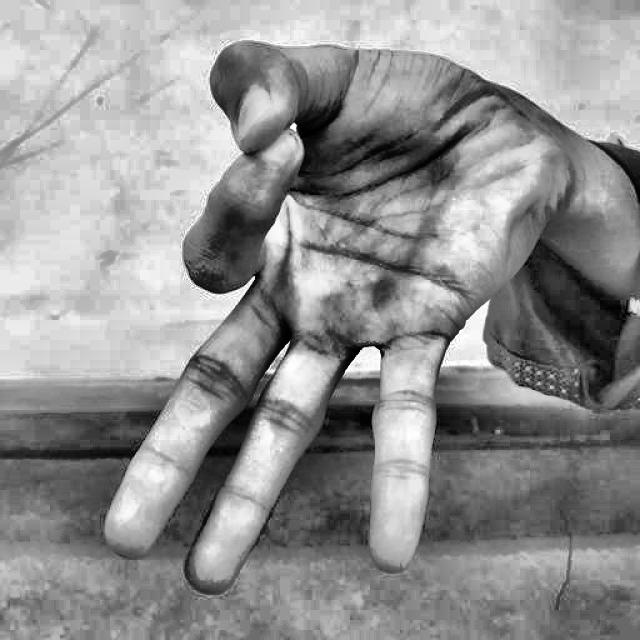Fa: (69, 24, 592, 614)
